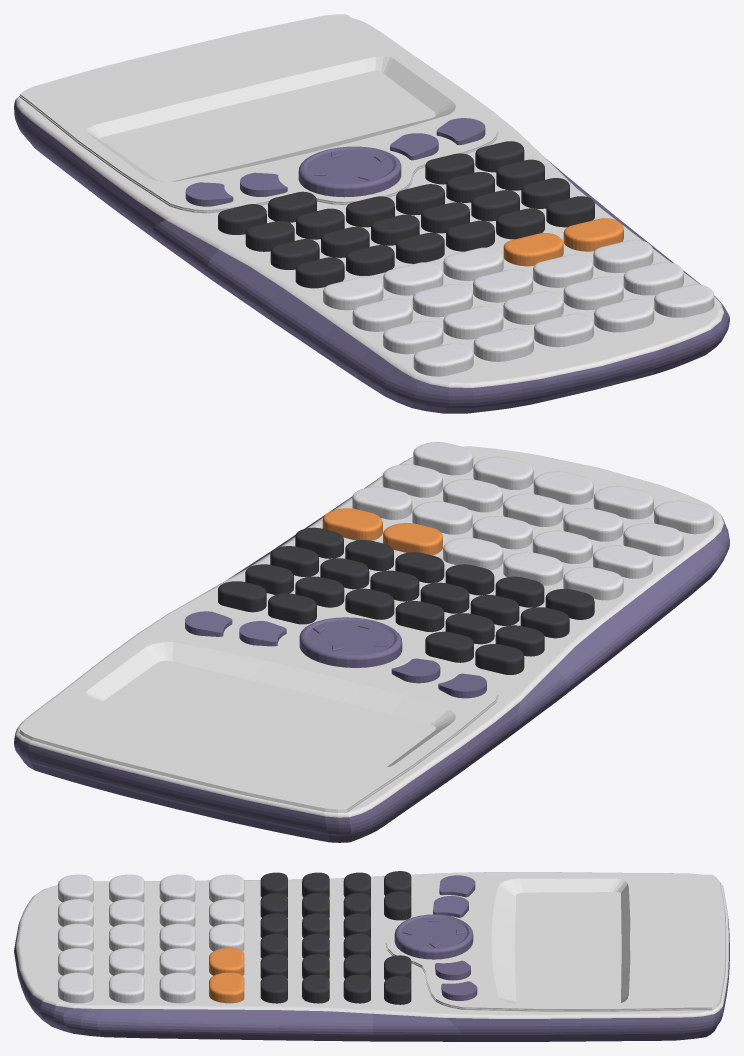
The model's file is calculator old.fbx.
3 renders of one model, top to bottom at view 1: azimuth 30°, elevation 25°; view 2: azimuth 150°, elevation 25°; view 3: azimuth 270°, elevation 25°, orthographic. The views are drawn at different scales.
Visible parts, largest first — view 1: Plane, Cube.002, Cube, Cube.005, Cube.001, Circle, Cube.006, Cube.004, Cube.003; view 2: Plane, Cube.002, Cube, Cube.001, Cube.005, Circle, Cube.006, Cube.004, Cube.003; view 3: Plane, Cube.002, Cube, Circle, Cube.001, Cube.005, Cube.006, Cube.003, Cube.004.
Part boxes in pixels (bbox=[...]): Plane: bbox=[14, 14, 729, 413]; Cube.002: bbox=[352, 239, 714, 376]; Cube: bbox=[245, 159, 594, 288]; Cube.005: bbox=[323, 247, 503, 310]; Cube.001: bbox=[218, 141, 524, 234]; Circle: bbox=[298, 146, 401, 197]; Cube.006: bbox=[503, 218, 623, 266]; Cube.004: bbox=[390, 118, 485, 160]; Cube.003: bbox=[185, 172, 287, 206]; Plane: bbox=[14, 446, 729, 842]; Cube.002: bbox=[352, 442, 713, 578]; Cube: bbox=[245, 527, 594, 656]; Cube.001: bbox=[218, 581, 524, 674]; Cube.005: bbox=[443, 537, 623, 600]; Circle: bbox=[299, 617, 402, 667]; Cube.006: bbox=[322, 508, 442, 555]; Cube.004: bbox=[185, 611, 286, 646]; Cube.003: bbox=[391, 658, 486, 698]; Plane: bbox=[14, 872, 729, 1041]; Cube.002: bbox=[58, 874, 195, 1003]; Cube: bbox=[260, 872, 370, 1003]; Circle: bbox=[394, 914, 473, 959]; Cube.001: bbox=[384, 871, 411, 1004]; Cube.005: bbox=[209, 874, 244, 951]; Cube.006: bbox=[209, 948, 244, 1003]; Cube.003: bbox=[433, 875, 475, 917]; Cube.004: bbox=[435, 960, 477, 1000].
Bounding box in the file's own units: 34.15 × 4.26 × 69.9.
